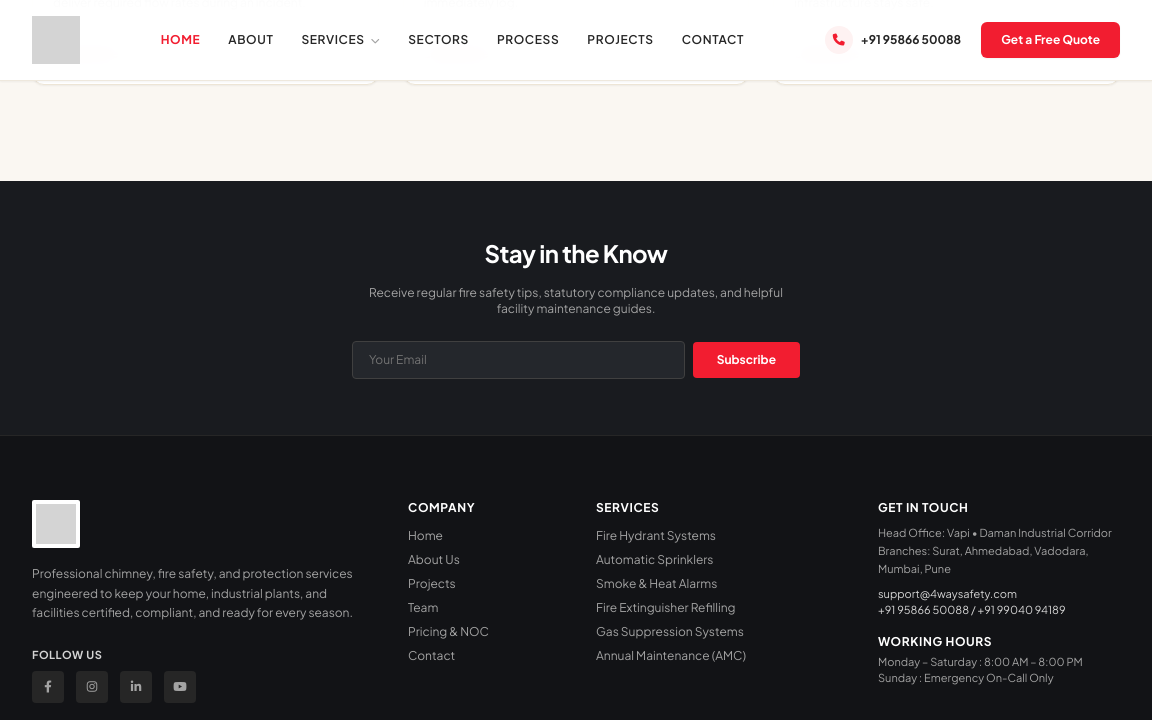
4Way Safety homepage › subscribes visitors through the WordPress newsletter endpoint
(page scrolled)
In the field named "email address": (518, 360) [352,341,685,379], type "safety@example.com"
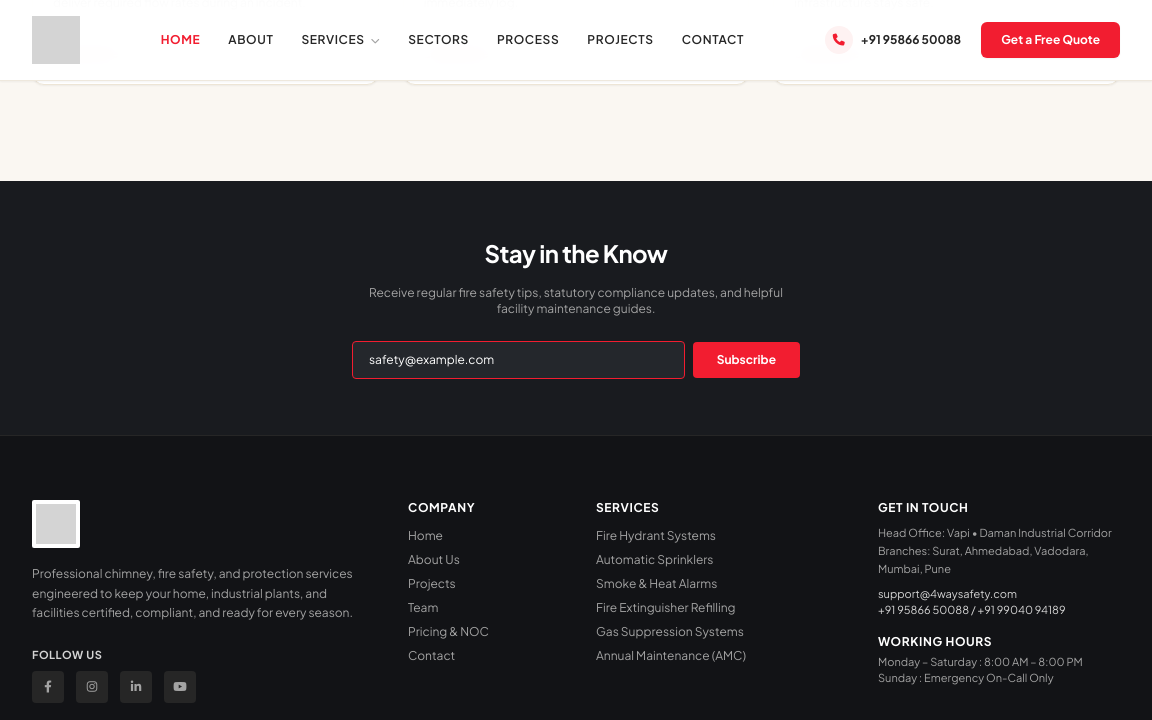
Click the button "Subscribe": (746, 360) [693,342,800,378]
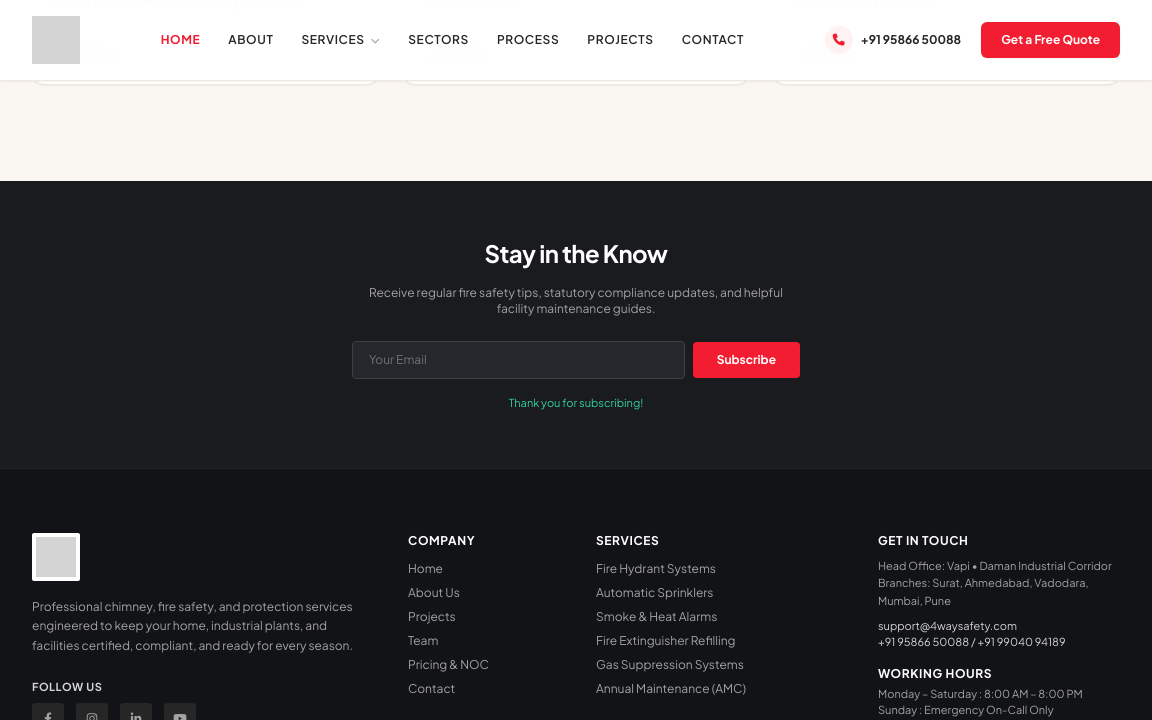
Now the text "Thank you for subscribing!" is shown, box [509,396,643,409]
